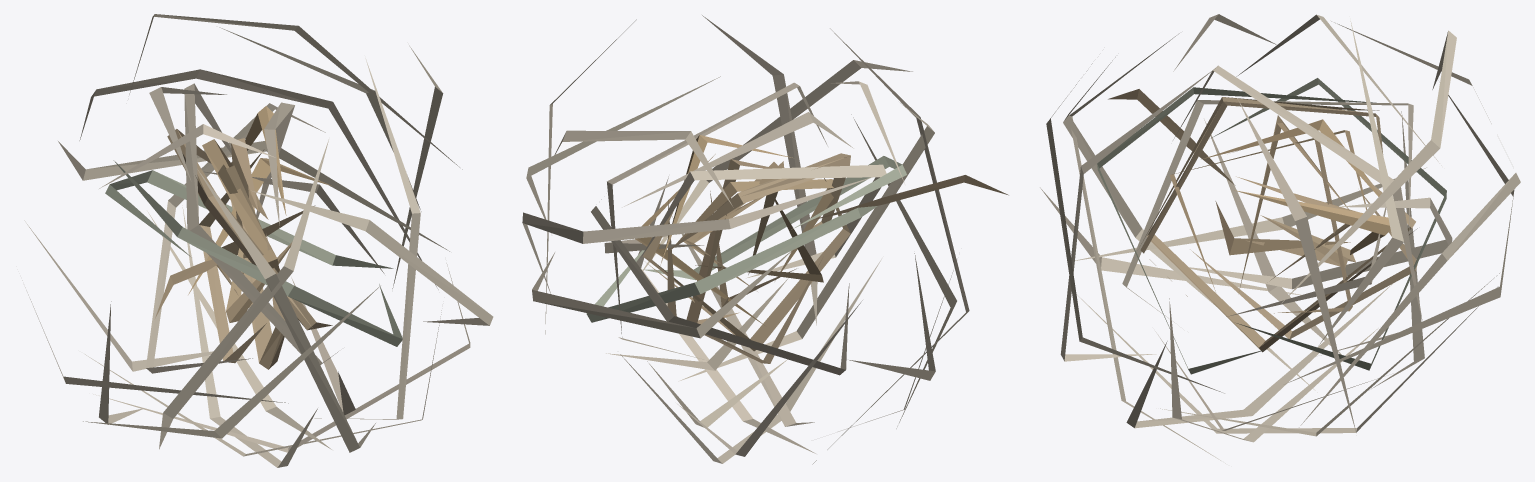
3 renders of one model, left to right at view 1: azimuth 30°, elevation 25°; view 2: azimuth 150°, elevation 25°; view 3: azimuth 270°, elevation 25°, orthographic. The views are drawn at different scales.
Visible parts, largest first — view 1: patch_1; view 2: patch_1; view 3: patch_1.
Part boxes in pixels (x1,y1,x2,y2): patch_1: (22,14,493,467); patch_1: (522,15,1008,464); patch_1: (1040,14,1520,463).
Size of the model in its own units: 0.748 by 0.7099 by 0.7502.
